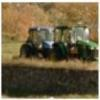tractors: (46, 24, 100, 68), (19, 26, 62, 66)
